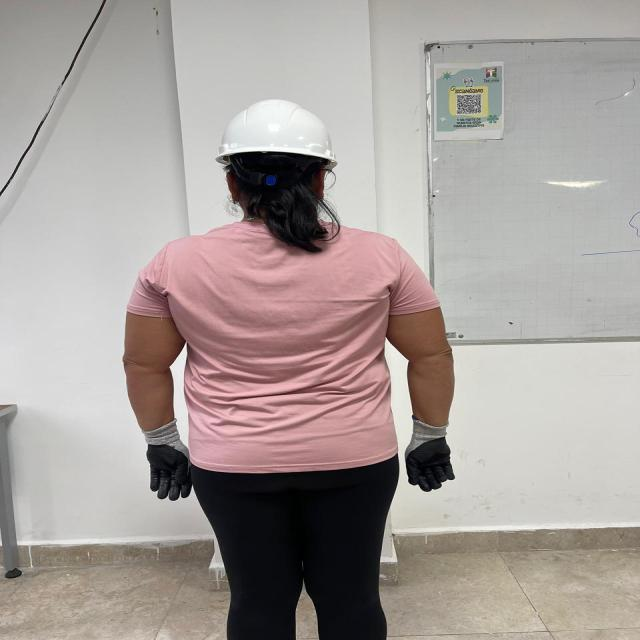gloves: (142, 418, 194, 501), (404, 416, 455, 492)
helmet: (216, 99, 336, 166)
